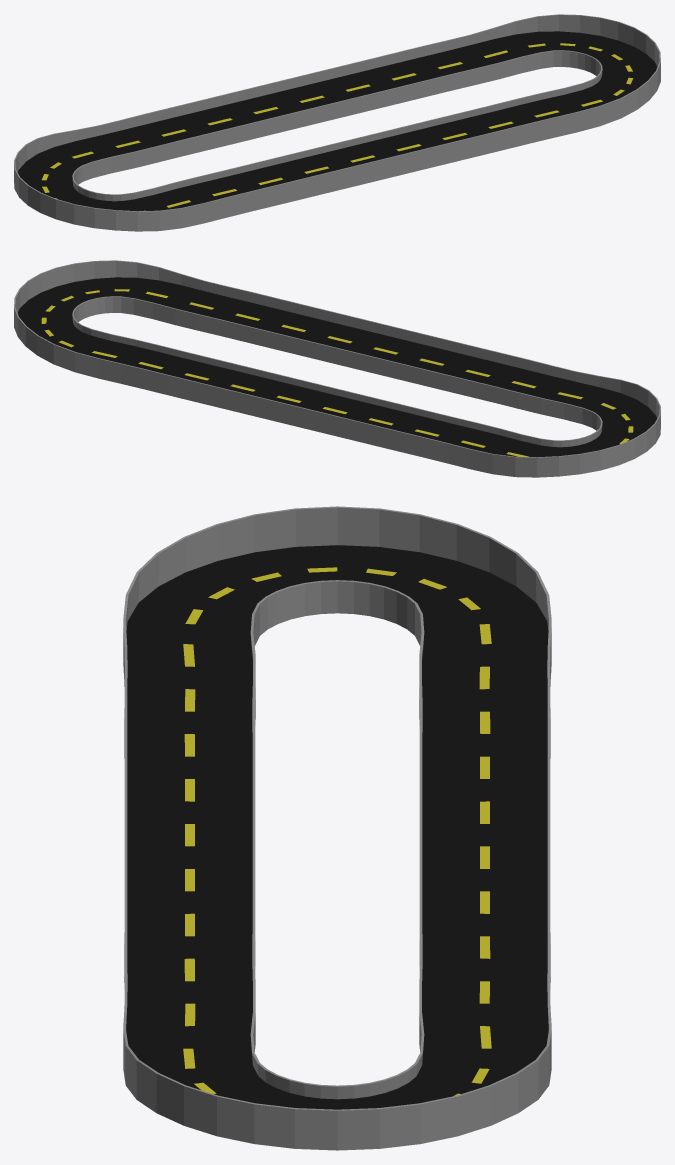
File: TestTrack.fbx
3 renders of one model, top to bottom at view 1: azimuth 30°, elevation 25°; view 2: azimuth 150°, elevation 25°; view 3: azimuth 270°, elevation 25°, orthographic. The views are drawn at different scales.
Parts seen in each view (by area): view 1: Circle; view 2: Circle; view 3: Circle.
Boxes of the visible parts, bbox=[...] form: Circle: bbox=[14, 14, 660, 231]; Circle: bbox=[14, 260, 660, 477]; Circle: bbox=[123, 506, 551, 1150].
Size of the model in its own units: 26349 by 1167 by 7898.
